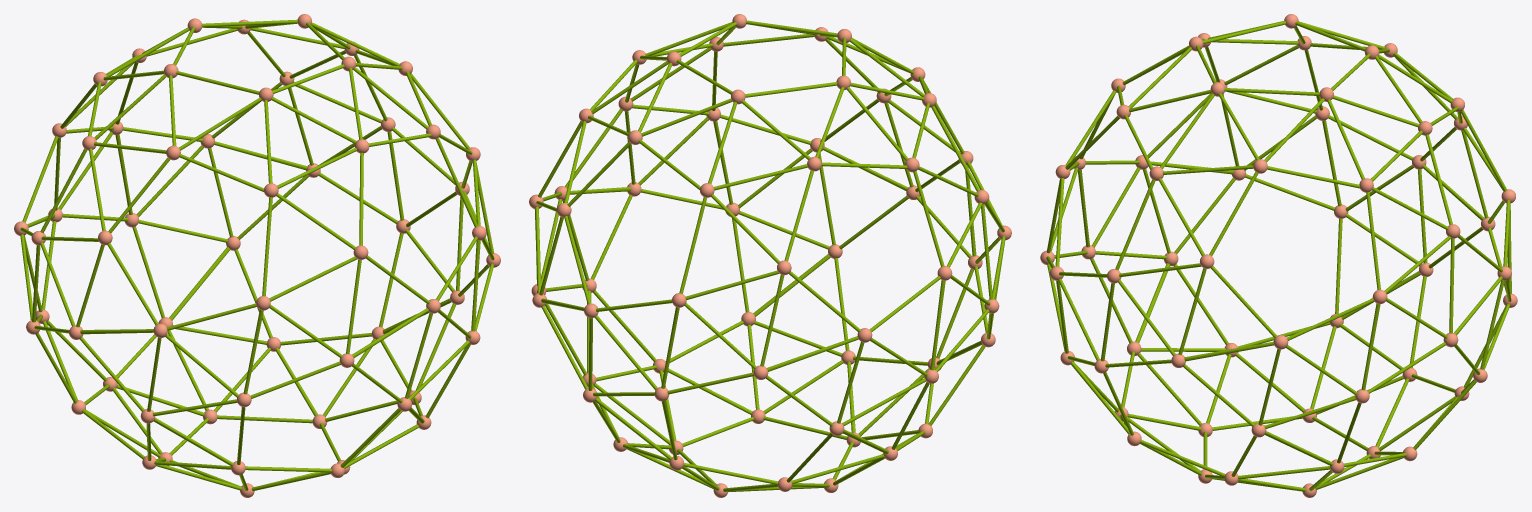
The model's file is snub_dodecahedron.glb.
3 renders of one model, left to right at view 1: azimuth 30°, elevation 25°; view 2: azimuth 150°, elevation 25°; view 3: azimuth 270°, elevation 25°, orthographic.
Size of the model in its own units: 8.58 by 7.98 by 8.5.
